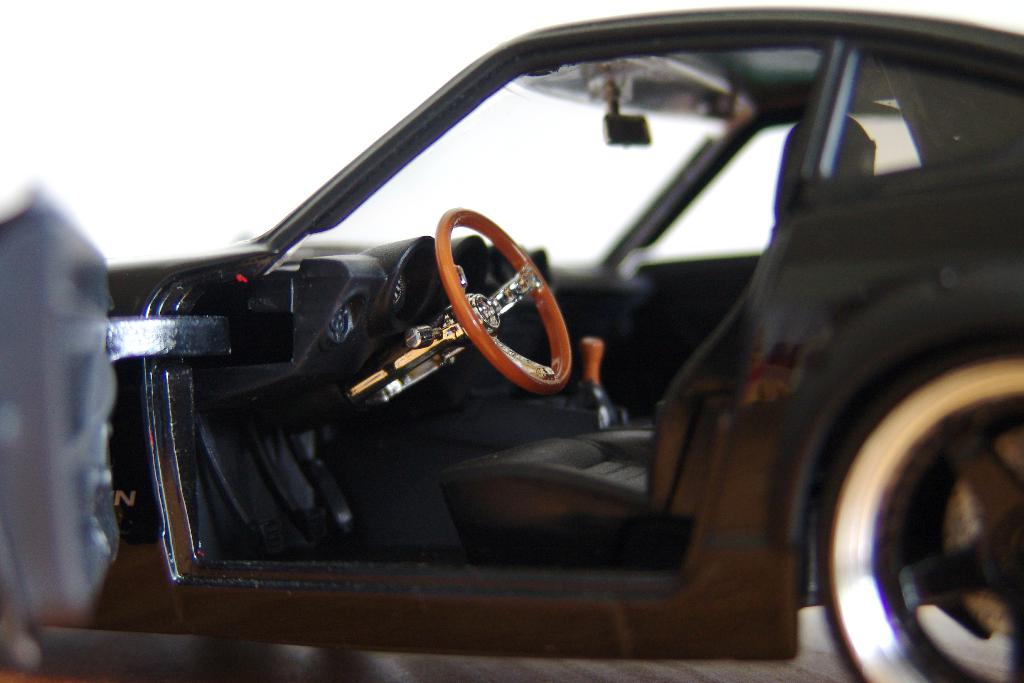Car: (31, 0, 1004, 683)
